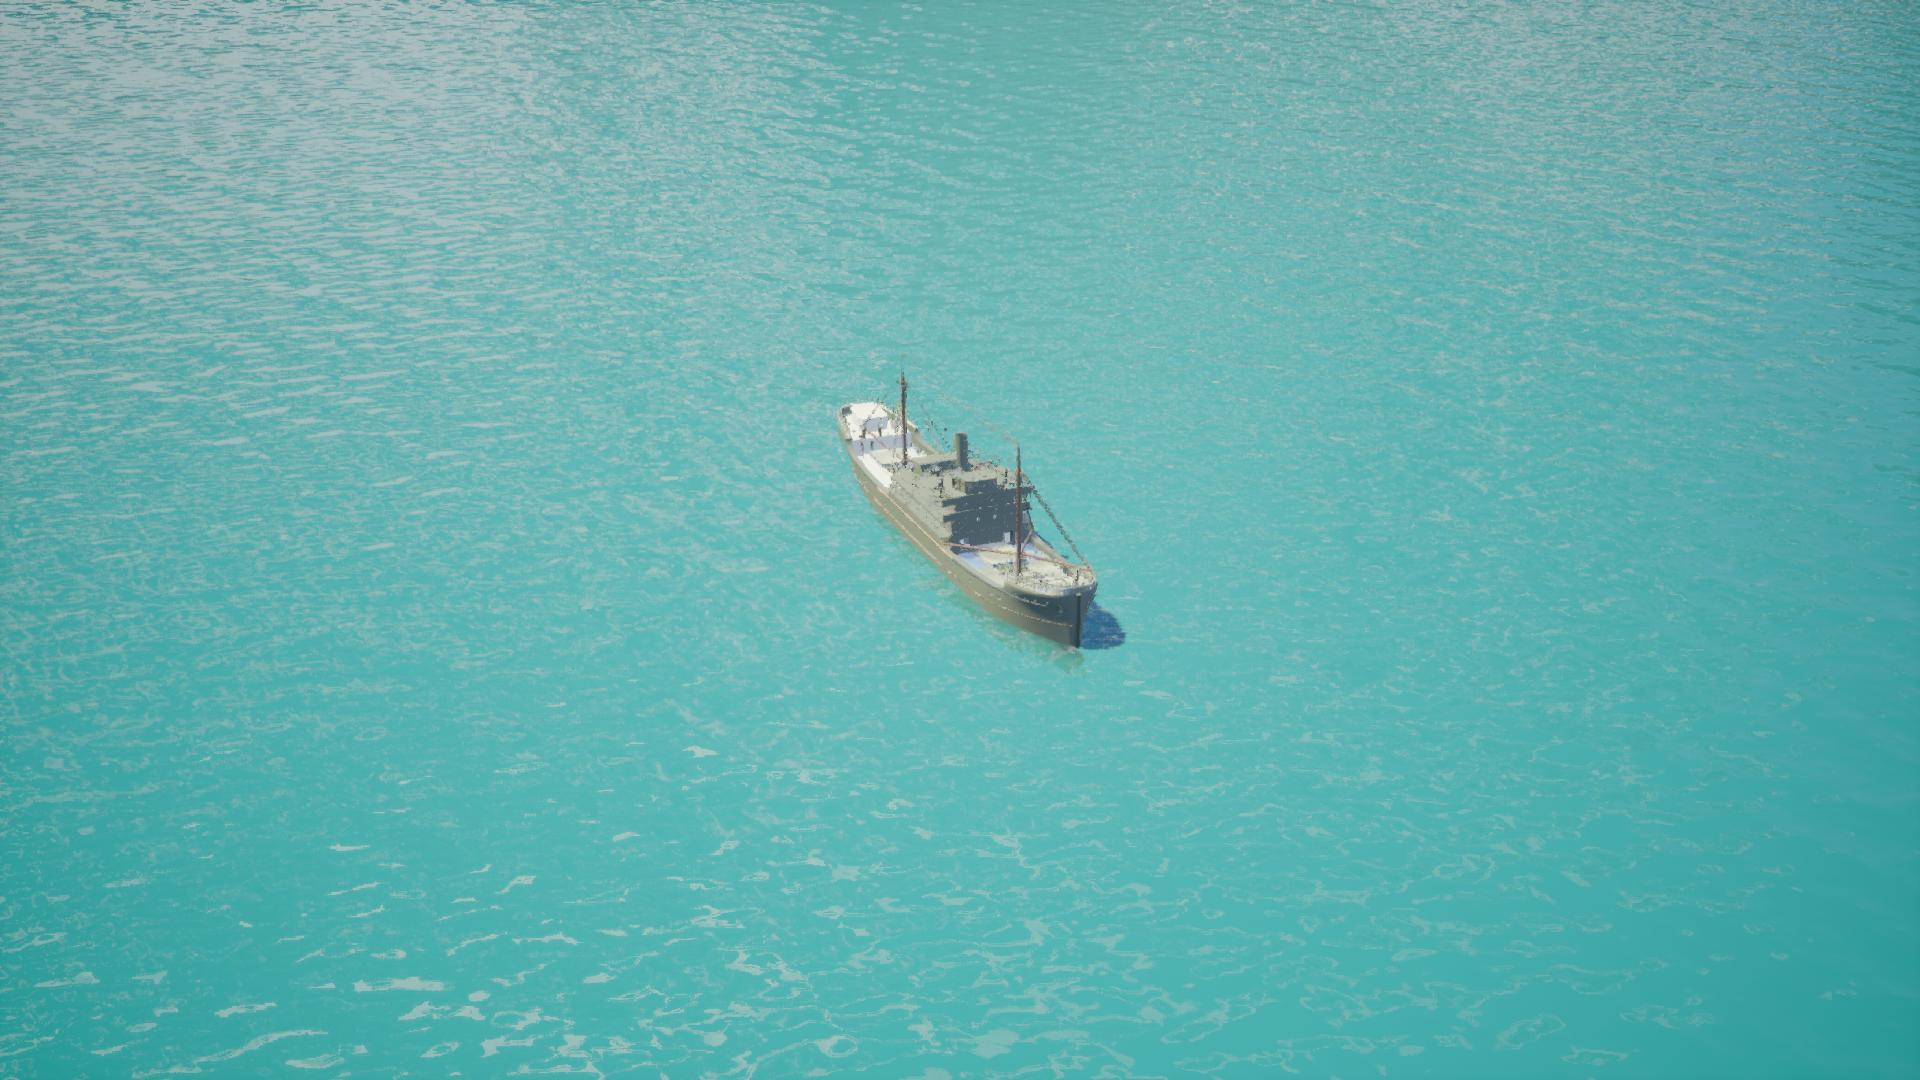Fishing Boat: (832, 392, 1108, 659)
